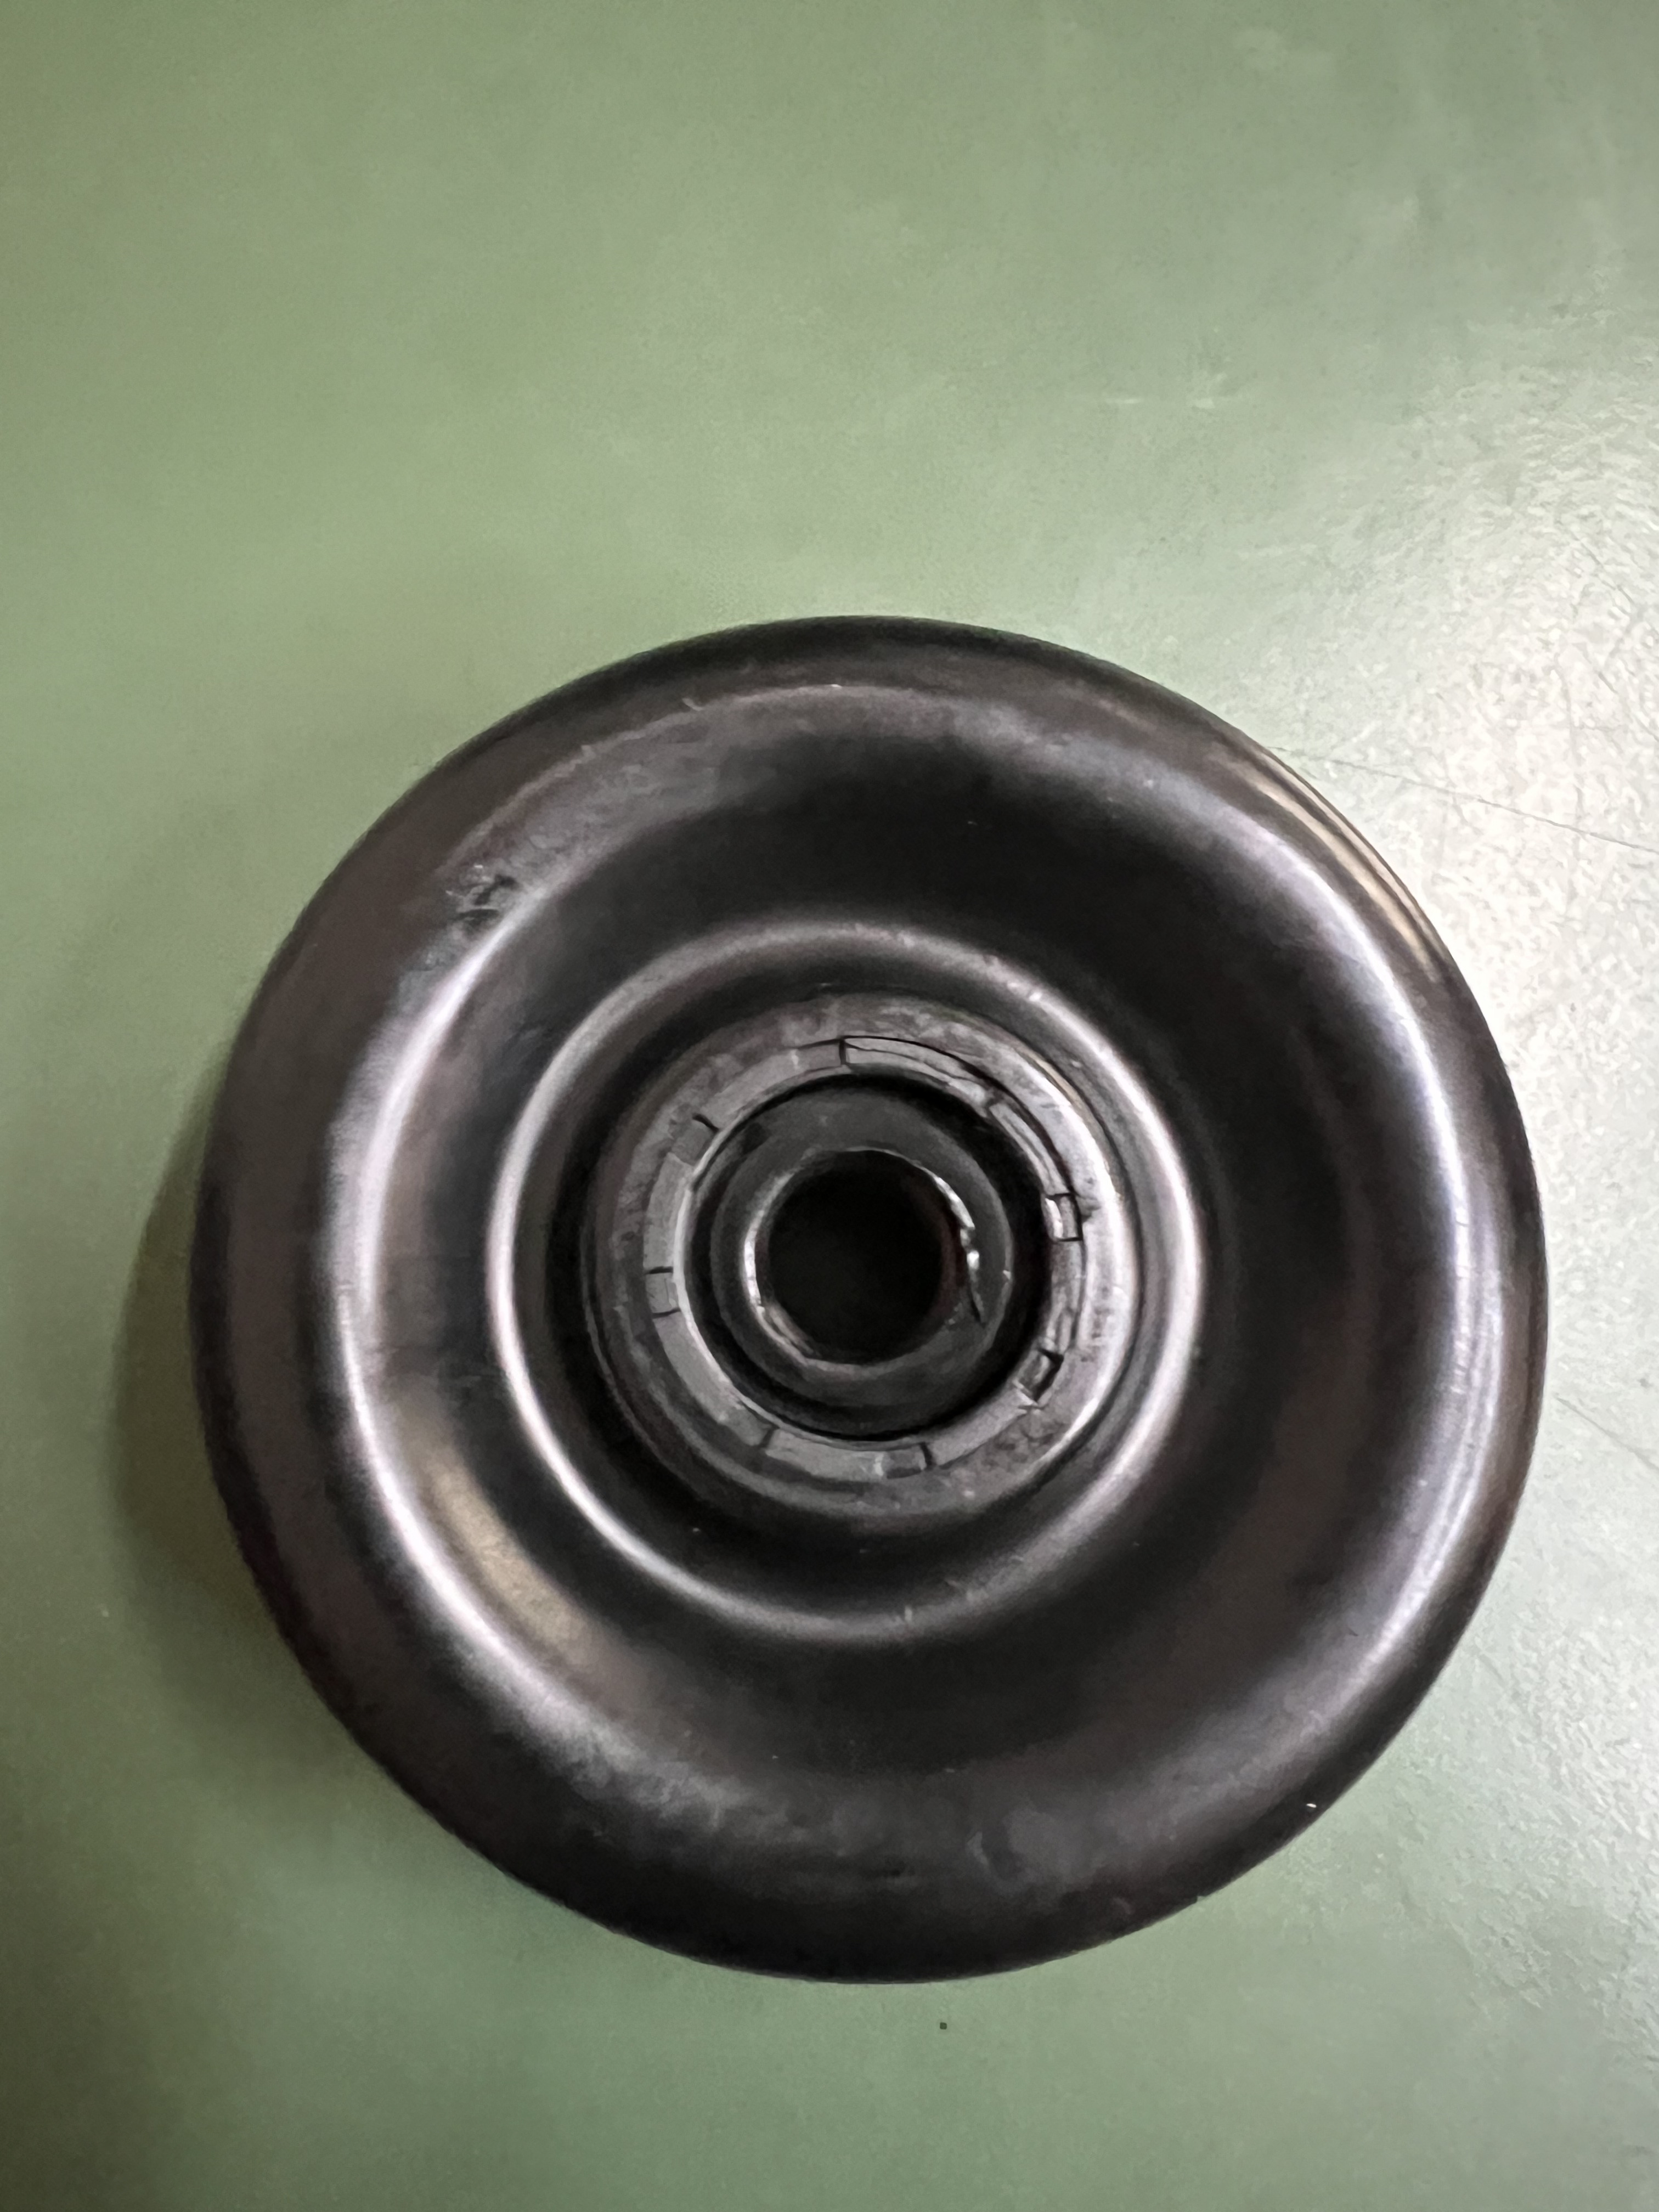lever: (171, 589, 1551, 1986)
